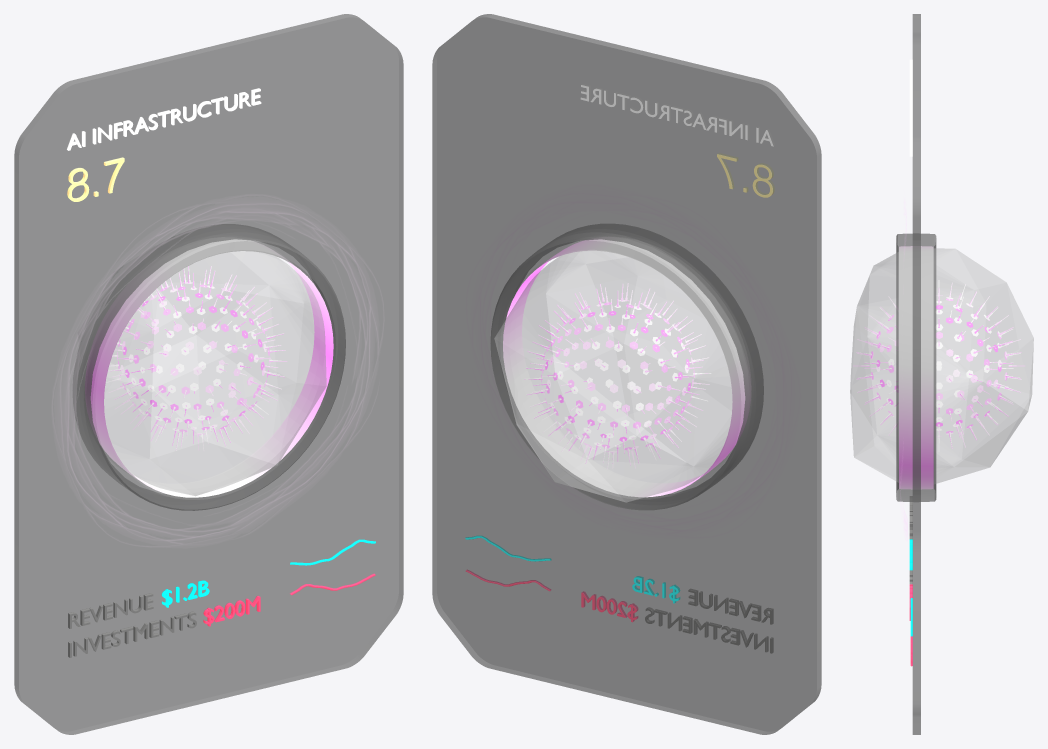
3 renders of one model, left to right at view 1: azimuth 30°, elevation 25°; view 2: azimuth 150°, elevation 25°; view 3: azimuth 270°, elevation 25°, orthographic. The views are drawn at different scales.
Parts seen in each view (by area): view 1: basePurple, Glass.002, Corner.002, neon-cornerPurple, neon-sphere, Text.012, Text.016, Text.014, neon-rimPurple, neon-text.004, neon-text; view 2: basePurple, Glass.002, Corner.002, neon-cornerPurple, neon-sphere, Text.012, Text.016, Text.014, neon-text.004, neon-text; view 3: Glass.002, Corner.002, neon-cornerPurple, basePurple, neon-sphere, Text.012.
Part boxes in pixels (box(x1,y1,x2,y2)): basePurple: box(14, 14, 403, 734); Glass.002: box(104, 251, 326, 495); Corner.002: box(76, 224, 345, 510); neon-cornerPurple: box(85, 237, 333, 497); neon-sphere: box(105, 266, 287, 451); Text.012: box(67, 88, 261, 150); Text.016: box(68, 611, 196, 657); Text.014: box(68, 593, 153, 628); neon-rimPurple: box(67, 205, 370, 540); neon-text.004: box(67, 157, 124, 201); neon-text: box(203, 595, 260, 626); basePurple: box(432, 14, 821, 734); Glass.002: box(494, 251, 732, 502); Corner.002: box(490, 224, 763, 510); neon-cornerPurple: box(503, 237, 750, 497); neon-sphere: box(524, 283, 711, 469); Text.012: box(580, 84, 774, 146); Text.016: box(645, 607, 773, 653); Text.014: box(688, 589, 773, 624); neon-text.004: box(717, 153, 774, 197); neon-text: box(581, 591, 637, 622); Glass.002: box(850, 248, 1033, 483); Corner.002: box(896, 233, 936, 501); neon-cornerPurple: box(899, 246, 933, 489); basePurple: box(912, 14, 920, 734); neon-sphere: box(853, 280, 1024, 451); Text.012: box(909, 59, 912, 156).
Bounding box in the file's own units: 1.47 × 2.38 × 0.666.
Materials: 10 (1 with a texture image).
